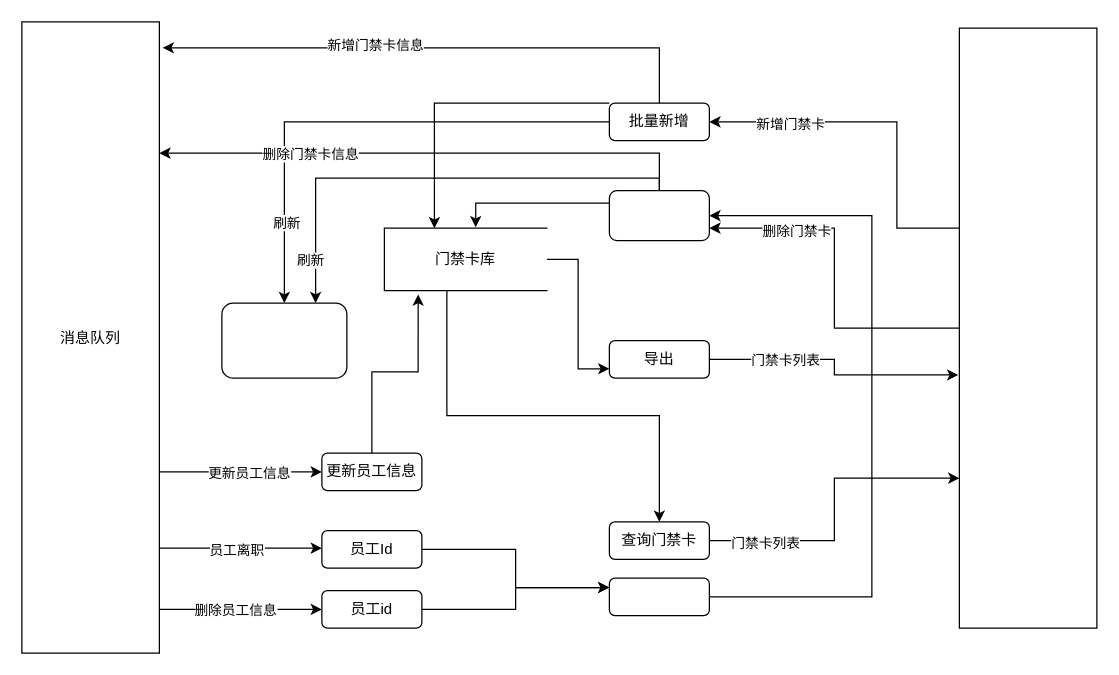
Some shapes in this 1119 by 675 pixel diagram are drawn without their labels. Each missing label, with the box of its shape:
删除: (608, 189, 709, 241)
删除处理: (608, 577, 709, 616)
管理员: (958, 27, 1097, 628)
门禁授权: (221, 302, 347, 378)
